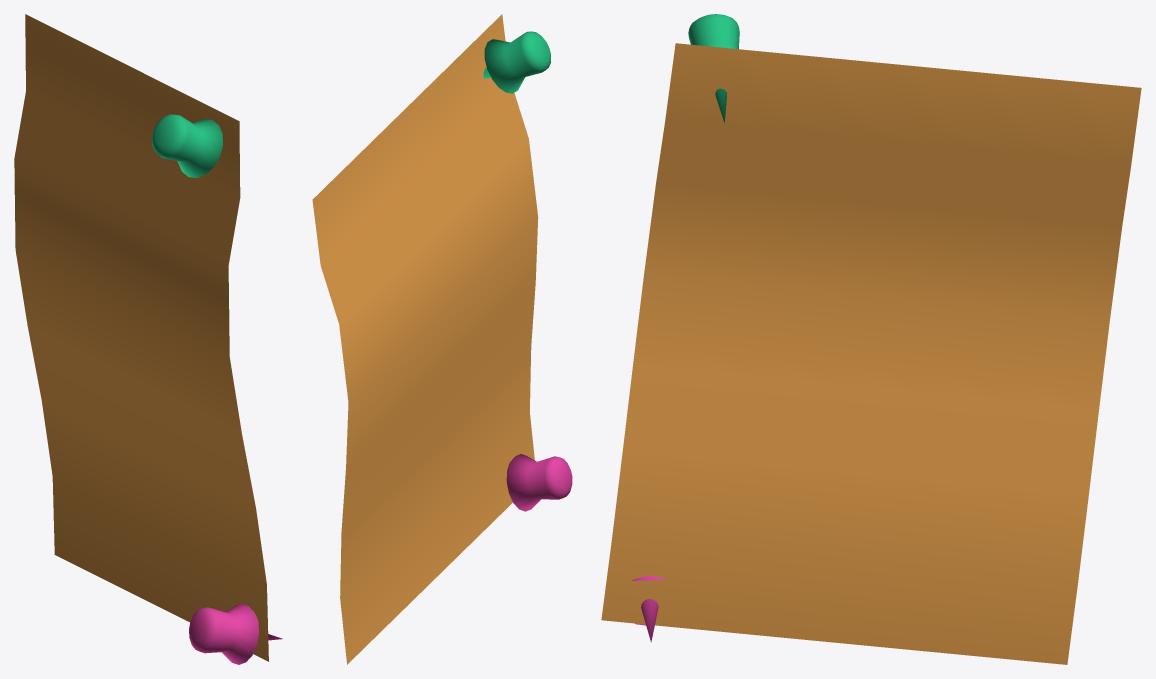
The model's file is papel_02.fbx.
3 views of the same model, side by side, from view 1: azimuth 30°, elevation 25°; view 2: azimuth 150°, elevation 25°; view 3: azimuth 270°, elevation 25° (orthographic). The views are drawn at different scales.
Parts seen in each view (by area): view 1: papel_02; view 2: papel_02; view 3: papel_02.
Boxes of the visible parts, left/top/right/bottom form: papel_02: left=14, top=14, right=282, bottom=664; papel_02: left=312, top=14, right=572, bottom=664; papel_02: left=601, top=14, right=1141, bottom=664.
Size of the model in its own units: 22.52 by 123 by 95.03.
